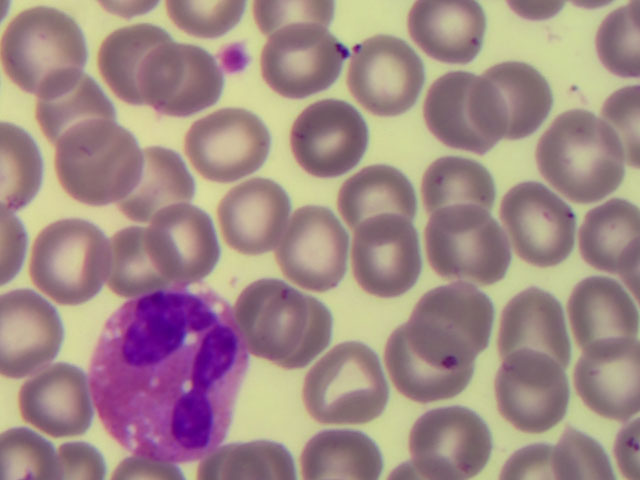Platelets: (223, 43, 250, 72)
RBC: (385, 321, 476, 408), (539, 112, 625, 202), (35, 213, 112, 305), (1, 15, 87, 97), (424, 205, 506, 288), (52, 120, 137, 200), (426, 72, 506, 157), (97, 24, 177, 104), (334, 168, 418, 243), (410, 283, 485, 367), (501, 185, 573, 270), (307, 344, 385, 422), (263, 22, 340, 101), (352, 210, 422, 296), (413, 405, 493, 480), (352, 36, 421, 122), (471, 62, 547, 140), (497, 348, 568, 431), (182, 113, 272, 178), (281, 207, 350, 291), (499, 290, 567, 375), (572, 332, 640, 417), (571, 272, 637, 359), (96, 225, 184, 290), (117, 143, 189, 221), (294, 99, 366, 177), (141, 42, 220, 113), (39, 76, 110, 153), (150, 206, 220, 283), (423, 156, 493, 232), (259, 296, 337, 364), (220, 186, 293, 258), (2, 289, 60, 376), (232, 284, 310, 348), (26, 359, 91, 432), (408, 1, 482, 59), (581, 203, 640, 272), (1, 122, 43, 214), (298, 430, 375, 480), (254, 1, 326, 46), (498, 439, 576, 480), (597, 10, 640, 81), (602, 89, 640, 166), (1, 426, 54, 480), (556, 431, 613, 480), (163, 1, 243, 35), (227, 445, 293, 480), (51, 438, 105, 480), (110, 459, 177, 480), (505, 1, 560, 21), (98, 1, 159, 19)
WBC: (90, 295, 241, 459)
